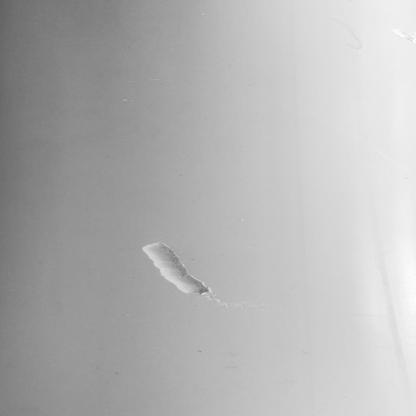sunshang: (140, 242, 229, 305)
